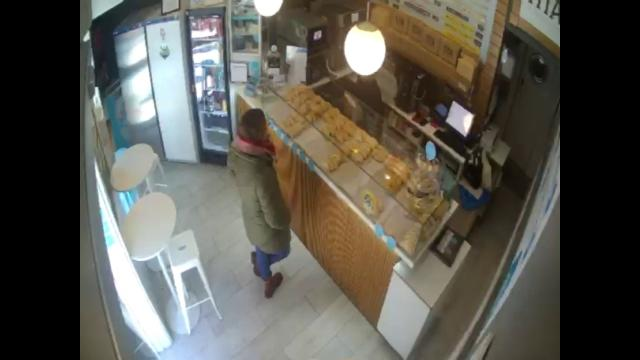cliente: (228, 108, 291, 297)
empleado: (344, 52, 392, 118)
